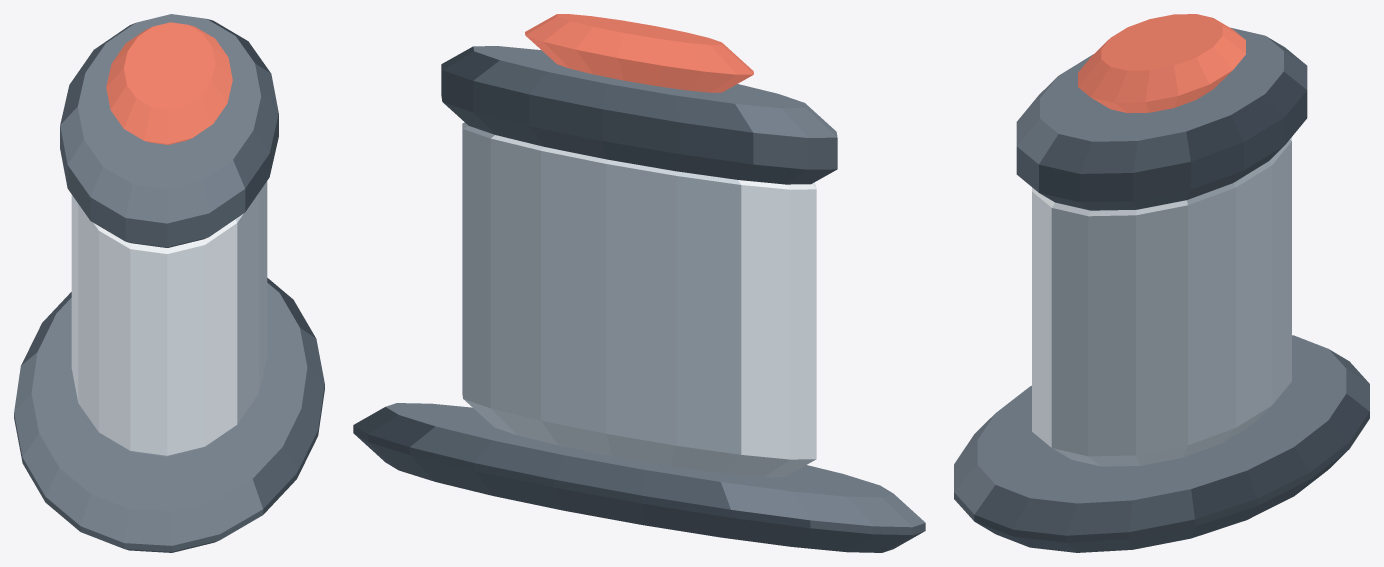
The model's file is Laser_Up.gltf.
3 views of the same model, side by side, from view 1: azimuth 30°, elevation 25°; view 2: azimuth 150°, elevation 25°; view 3: azimuth 270°, elevation 25° (orthographic). The views are drawn at different scales.
Parts seen in each view (by area): view 1: Laser_Up_baked; view 2: Laser_Up_baked; view 3: Laser_Up_baked.
Part boxes in pixels (box(x1,y1,x2,y2)): Laser_Up_baked: box(14, 14, 324, 552); Laser_Up_baked: box(353, 14, 925, 552); Laser_Up_baked: box(954, 14, 1369, 552).
Size of the model in its own units: 0.5792 by 0.7258 by 0.5334.
